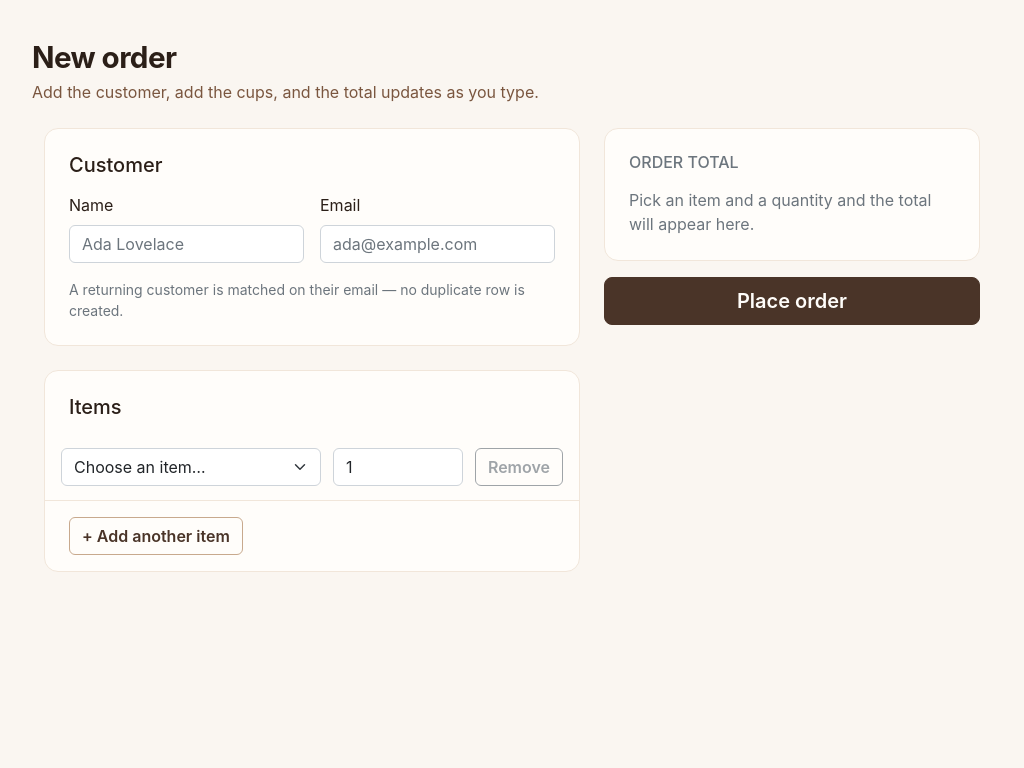
Test case: <Order /> › keeps the last line un-removable so the form is never empty
Expected: the field labelled "Name" is shown, [69, 224, 304, 262]
Expected: the button with aria-label "remove line 1" is disabled, [475, 448, 563, 486]
Click the button "+ Add another item".
click(156, 536)  # box [69, 517, 243, 555]
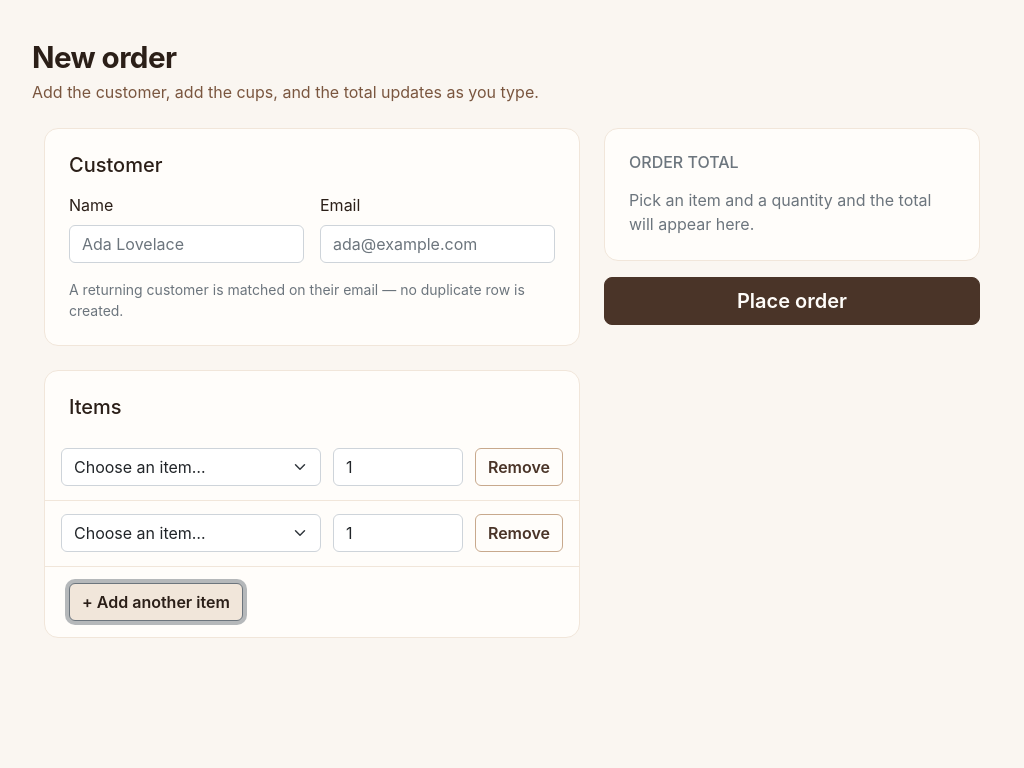
Result: the button with aria-label "remove line 1" is enabled at [475, 448, 563, 486]
